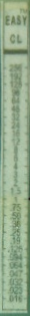number: (7, 245, 24, 254), (7, 270, 24, 279), (8, 286, 24, 295), (7, 261, 24, 269), (7, 295, 24, 303), (8, 63, 23, 72), (8, 278, 24, 286), (9, 212, 24, 220), (7, 254, 24, 261), (9, 220, 23, 228), (10, 187, 22, 196), (8, 73, 23, 80), (8, 80, 23, 87), (9, 88, 22, 96), (10, 203, 23, 211), (9, 228, 22, 236), (10, 236, 23, 244), (10, 112, 21, 121), (10, 138, 21, 147), (10, 97, 22, 105), (10, 121, 20, 130), (11, 129, 21, 138), (12, 154, 20, 163), (11, 178, 20, 186), (12, 162, 20, 170), (12, 170, 20, 178), (11, 105, 20, 112), (12, 147, 20, 154), (14, 197, 20, 203)
